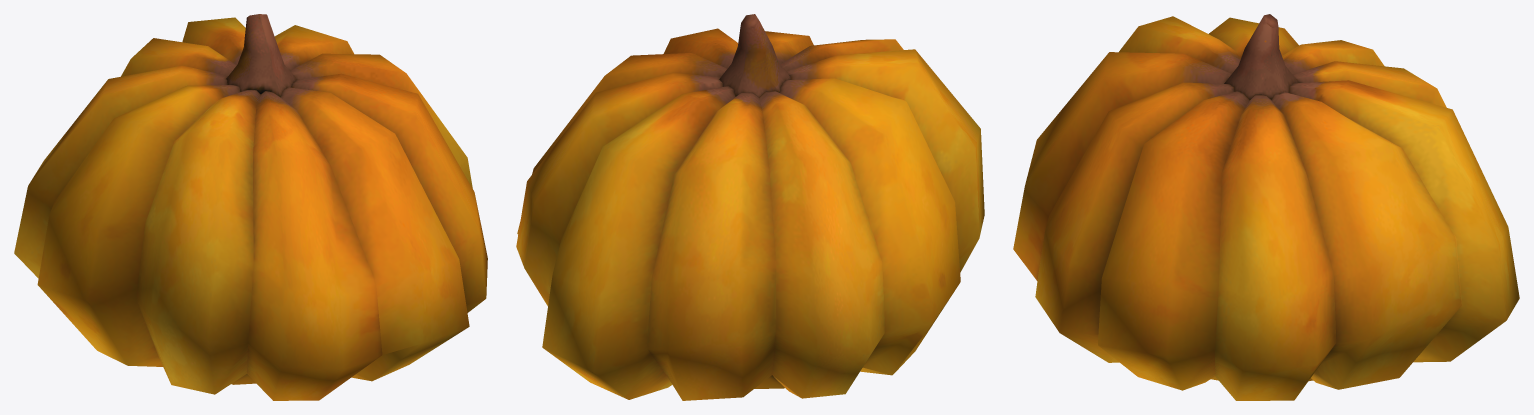
The model's file is stklib_pumpkin_a_main.glb.
The picture shows the model from 3 angles, left to right: view 1: azimuth 30°, elevation 25°; view 2: azimuth 150°, elevation 25°; view 3: azimuth 270°, elevation 25°; orthographic projection.
Parts seen in each view (by area): view 1: stklib_pumpkin_diff_a.png__; view 2: stklib_pumpkin_diff_a.png__; view 3: stklib_pumpkin_diff_a.png__.
Boxes of the visible parts, x1,y1,x2,y2 form: stklib_pumpkin_diff_a.png__: [14, 14, 487, 400]; stklib_pumpkin_diff_a.png__: [516, 14, 984, 400]; stklib_pumpkin_diff_a.png__: [1013, 14, 1519, 400].
Bounding box in the file's own units: 2.12 × 1.68 × 2.28.
Materials: 1 (1 with a texture image).
